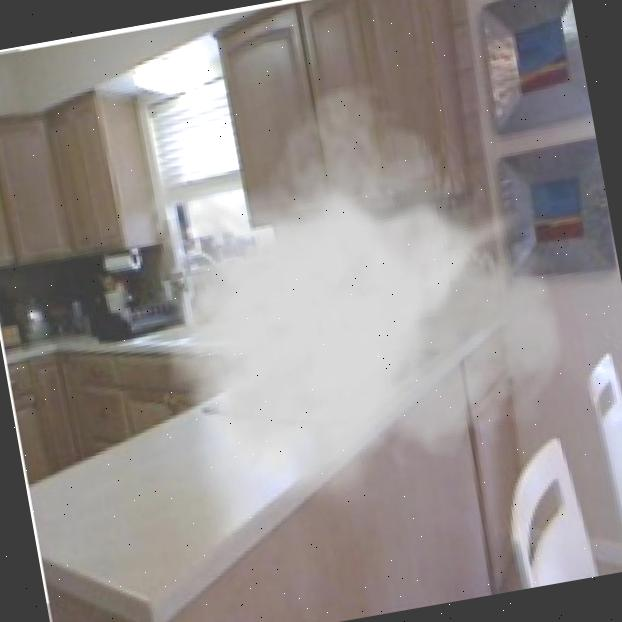smoke: (119, 56, 591, 537)
